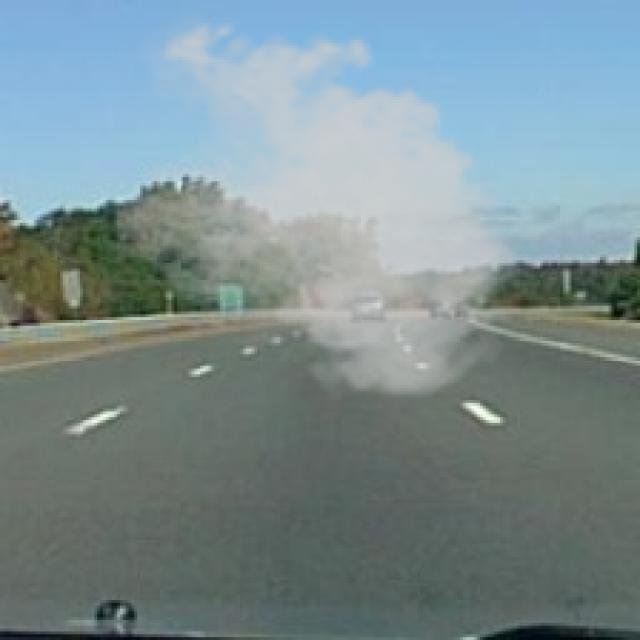smoke: (111, 8, 534, 406)
